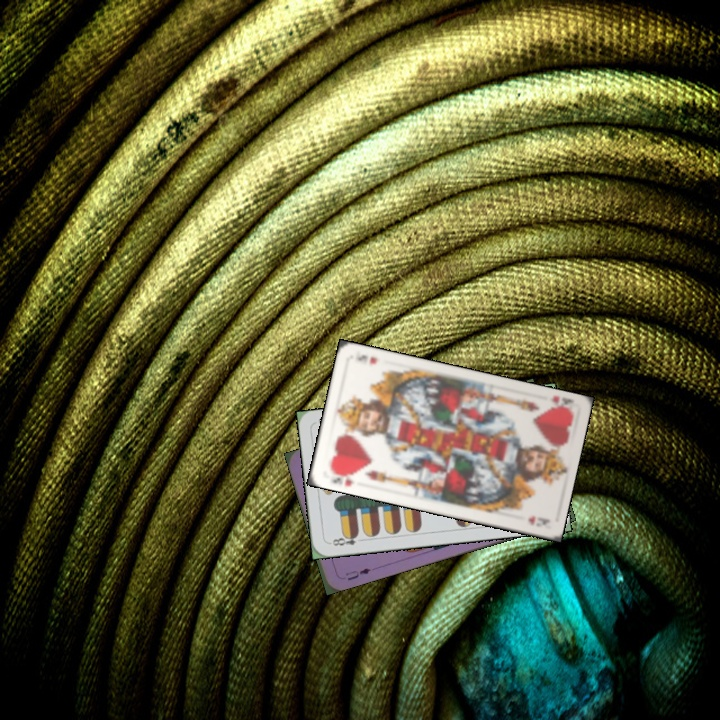E8: (326, 530, 361, 548)
EU: (342, 564, 373, 583)
HK: (543, 392, 576, 411), (328, 469, 358, 489)
